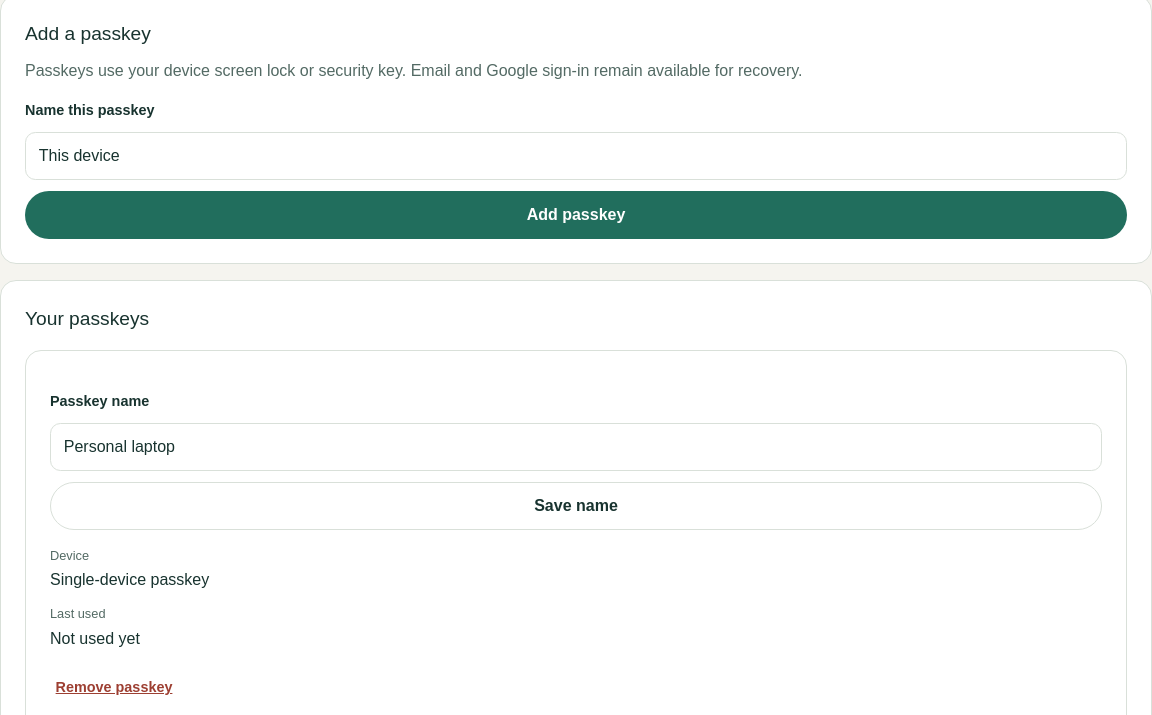
Test: passkey account manager › provides an explicit keep action to cancel the removal confirmation
Click the button "Remove passkey" at (114,688), box [50, 667, 178, 708]
(page scrolled)
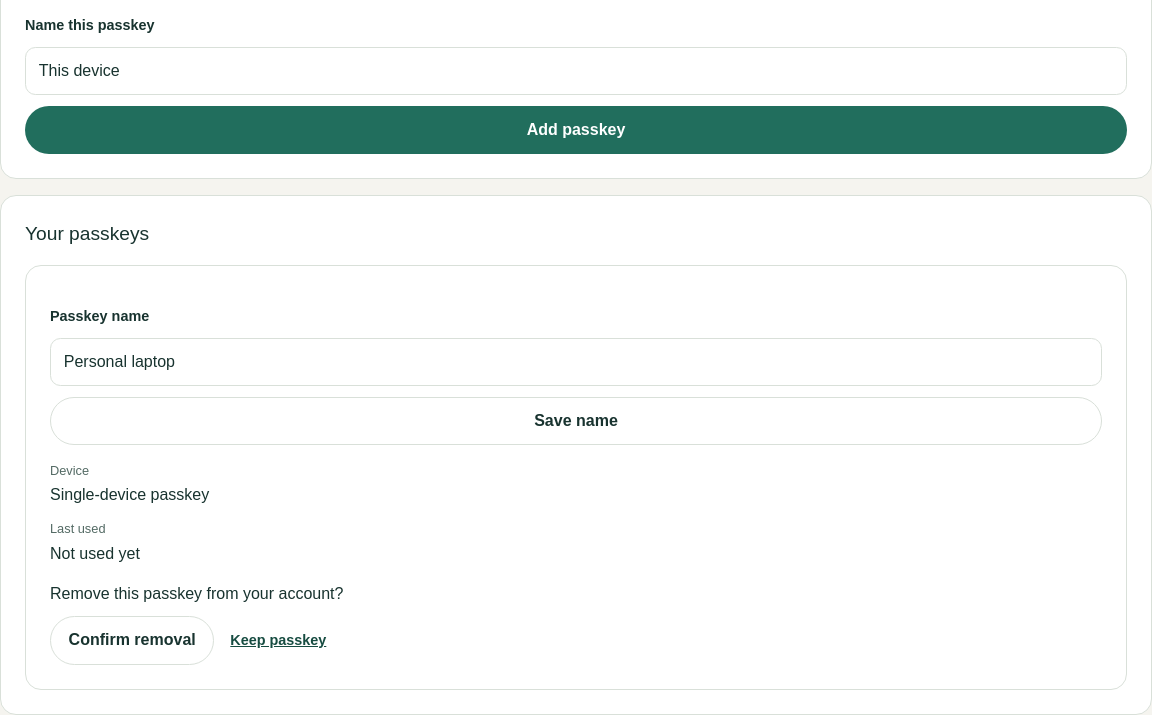
Click the button "Keep passkey" at (278,640), box [225, 620, 332, 661]
(page scrolled)
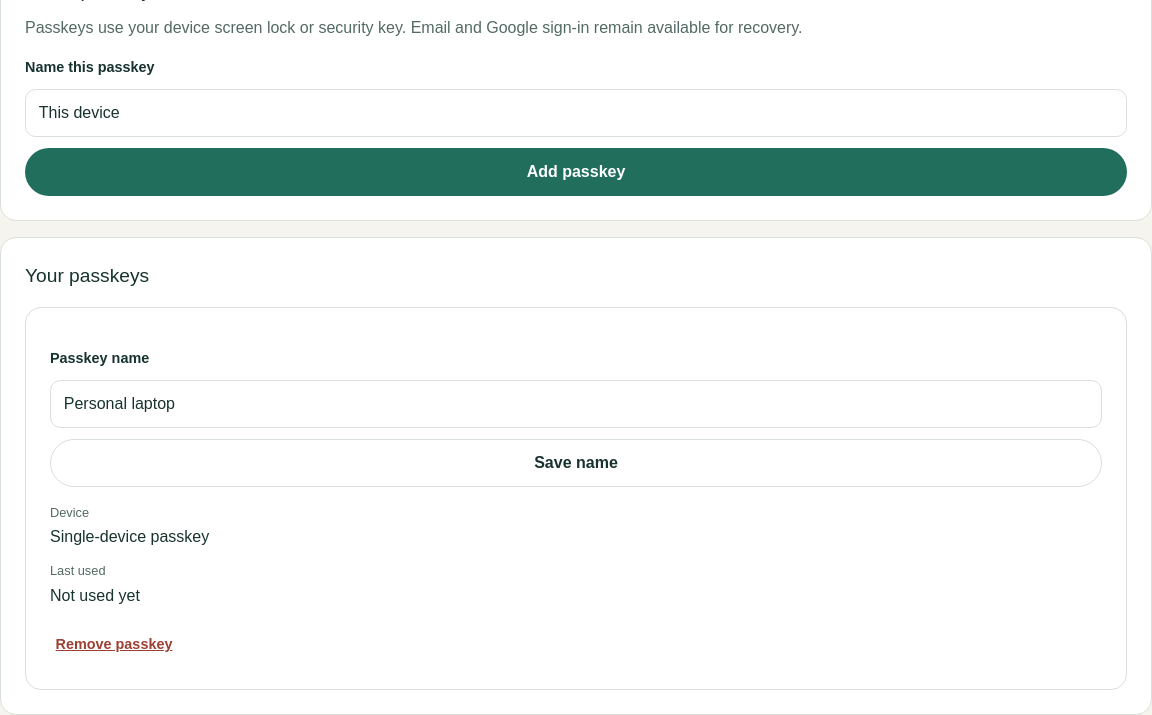
Expected: the text "Remove this passkey from your account?" is gone
